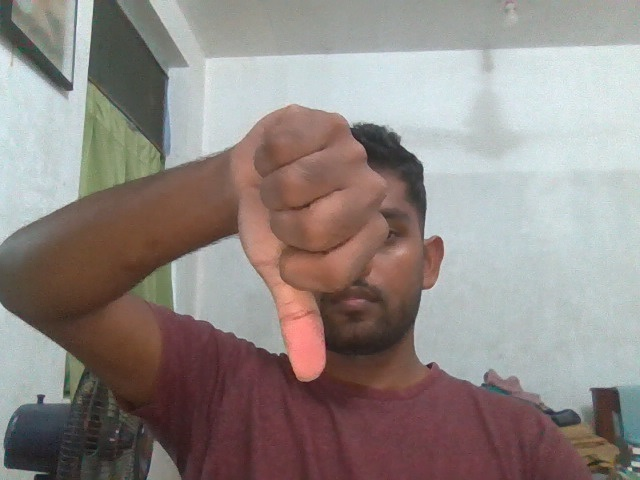dontlike: (204, 93, 400, 388)
